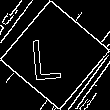L_N: (37, 28, 73, 82)
